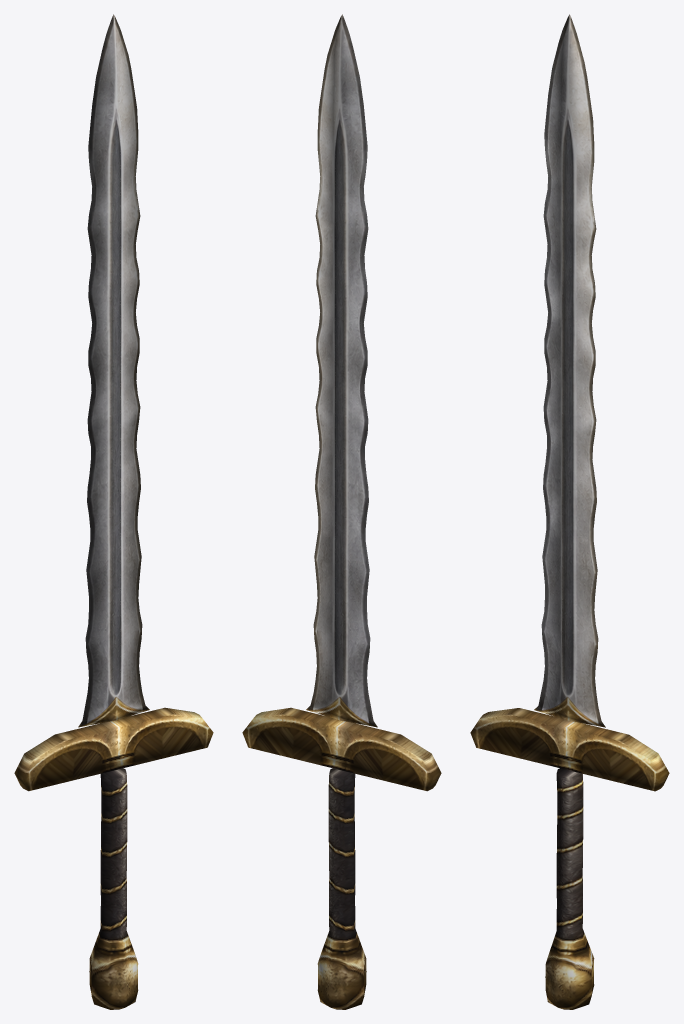
Rendered from mm7_m230_sword.glb.
3 renders of one model, left to right at view 1: azimuth 30°, elevation 25°; view 2: azimuth 150°, elevation 25°; view 3: azimuth 330°, elevation 25°, orthographic.
Parts seen in each view (by area): view 1: Sword; view 2: Sword; view 3: Sword.
Boxes of the visible parts, box(x1,y1,x2,y2) form: Sword: box(14, 14, 213, 1009); Sword: box(242, 14, 441, 1009); Sword: box(470, 14, 669, 1009).
Size of the model in its own units: 0.214 by 1.05 by 0.048.
1 material, 1 textured.
